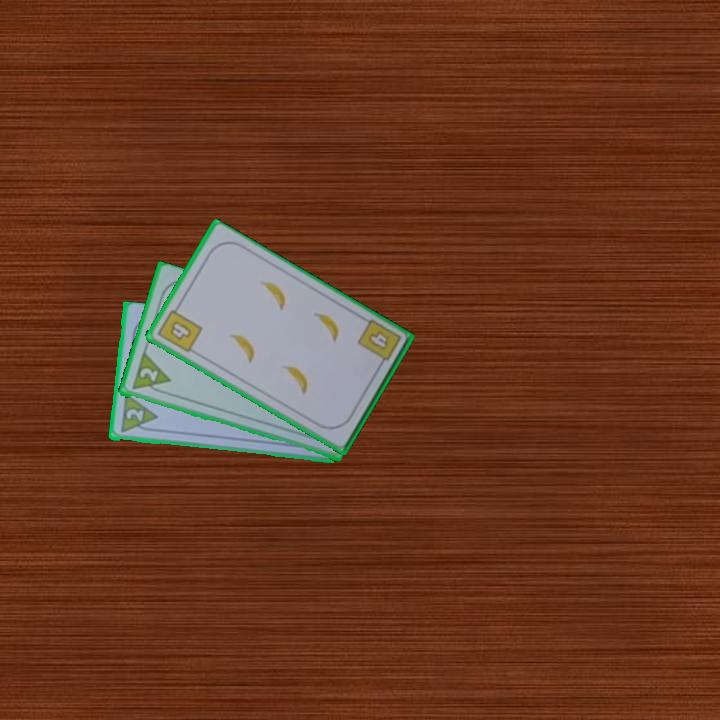2p: (136, 364, 161, 385), (122, 405, 147, 425)
4b: (154, 301, 205, 356), (354, 316, 404, 371)
